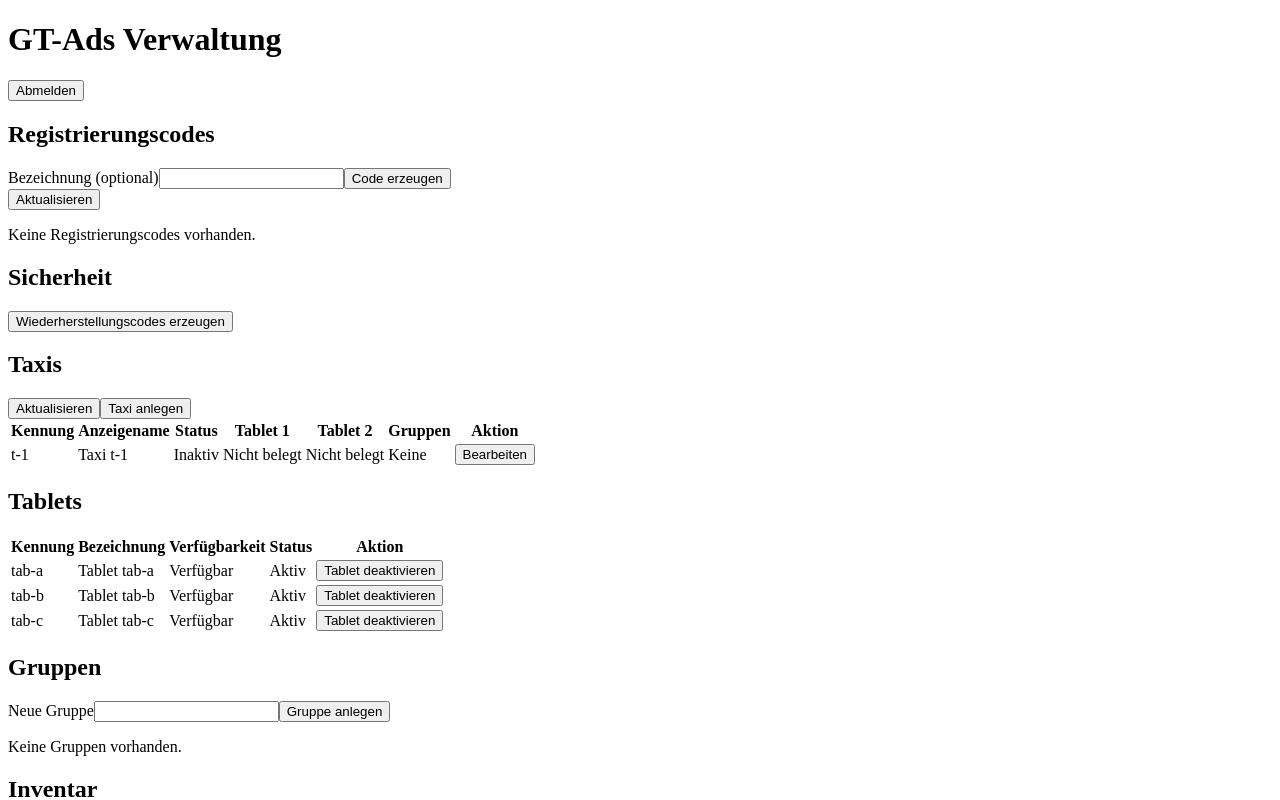
CX-138 Tablet-Paar im Dashboard zuordnen › verhindert unvollstaendige oder doppelte Paare und behaelt eine Auswahl, die die neue Liste nicht mehr enthaelt
Later steps or results of the test are not shown.
Expected: the cell "t-1" is shown, [10, 443, 75, 466]
Click the button "Bearbeiten": (495, 455) [454, 444, 535, 465]
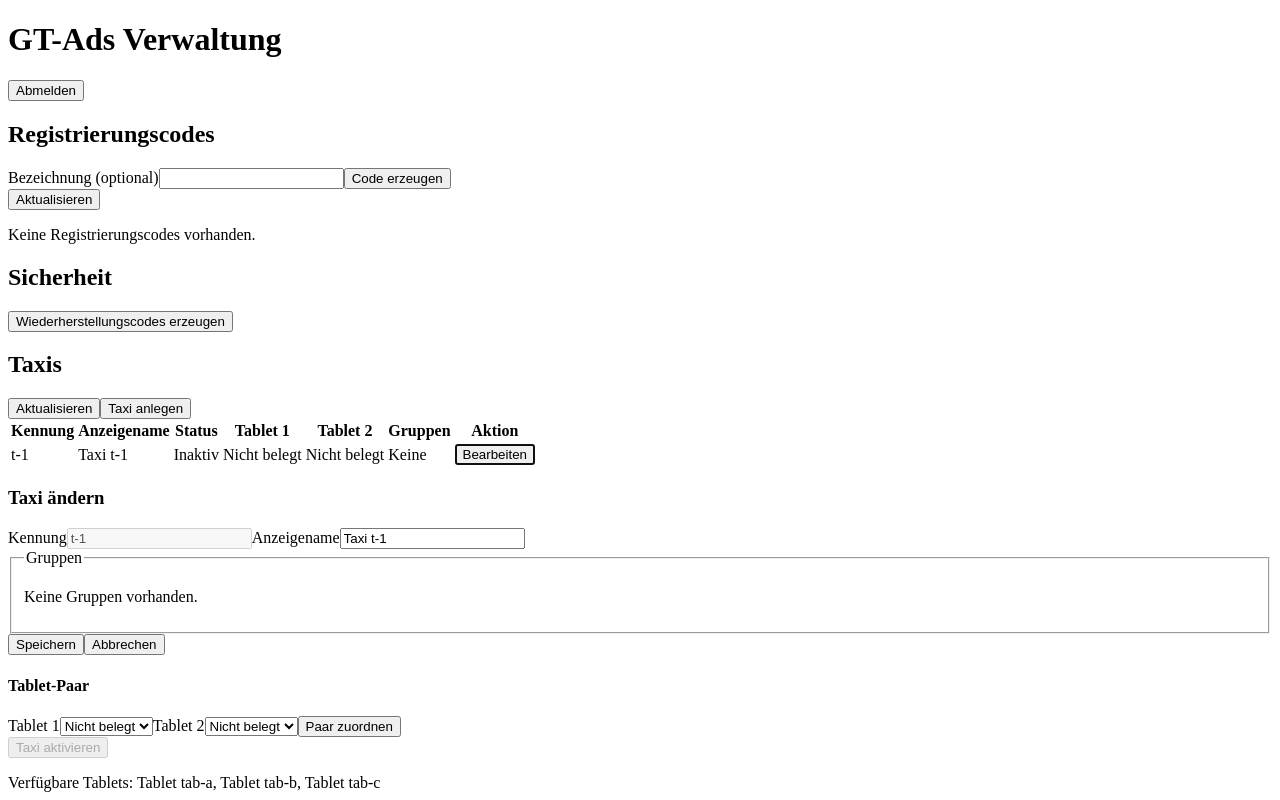
Now the element "Tablet-Paar" is shown, box [8, 677, 401, 791]
Select "Tablet tab-a" in the dropdown labelled "Tablet 1": (106, 726) [60, 717, 153, 736]
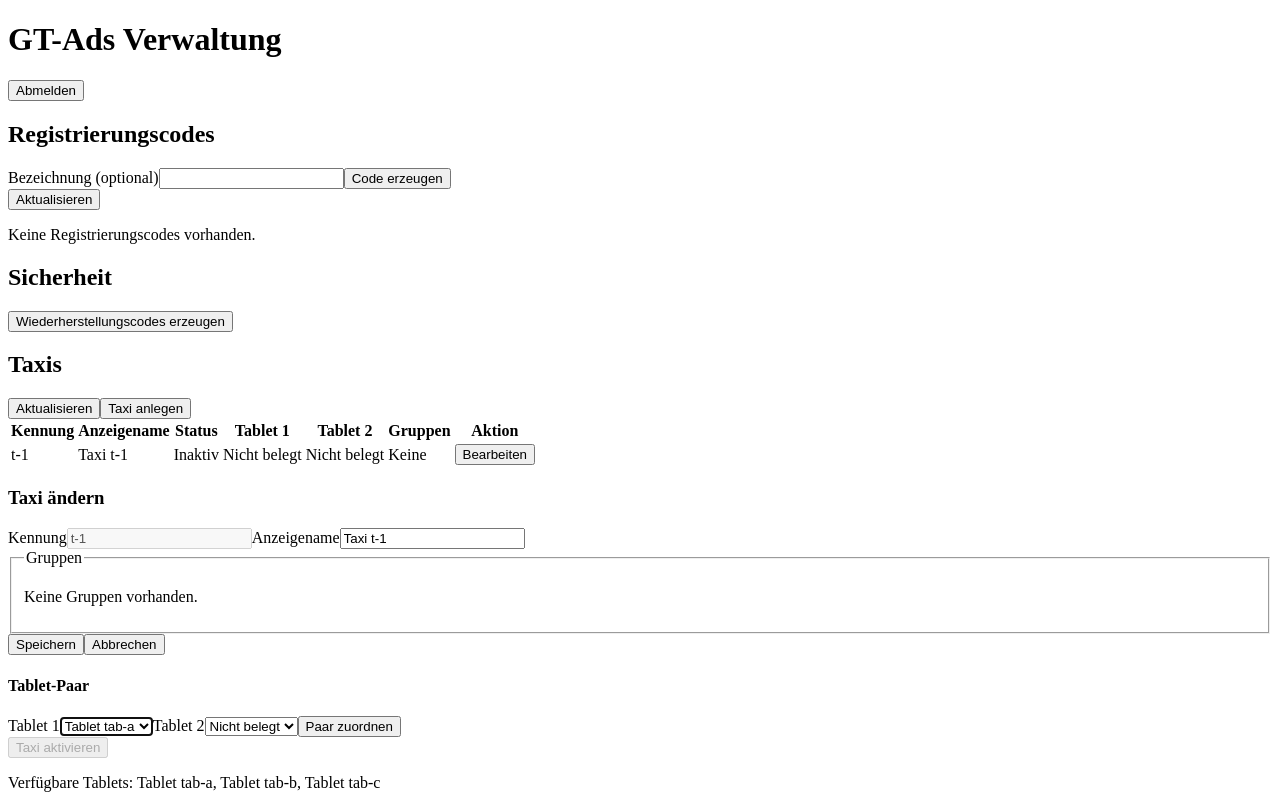
Click the button "Paar zuordnen": (349, 726) [298, 716, 401, 737]
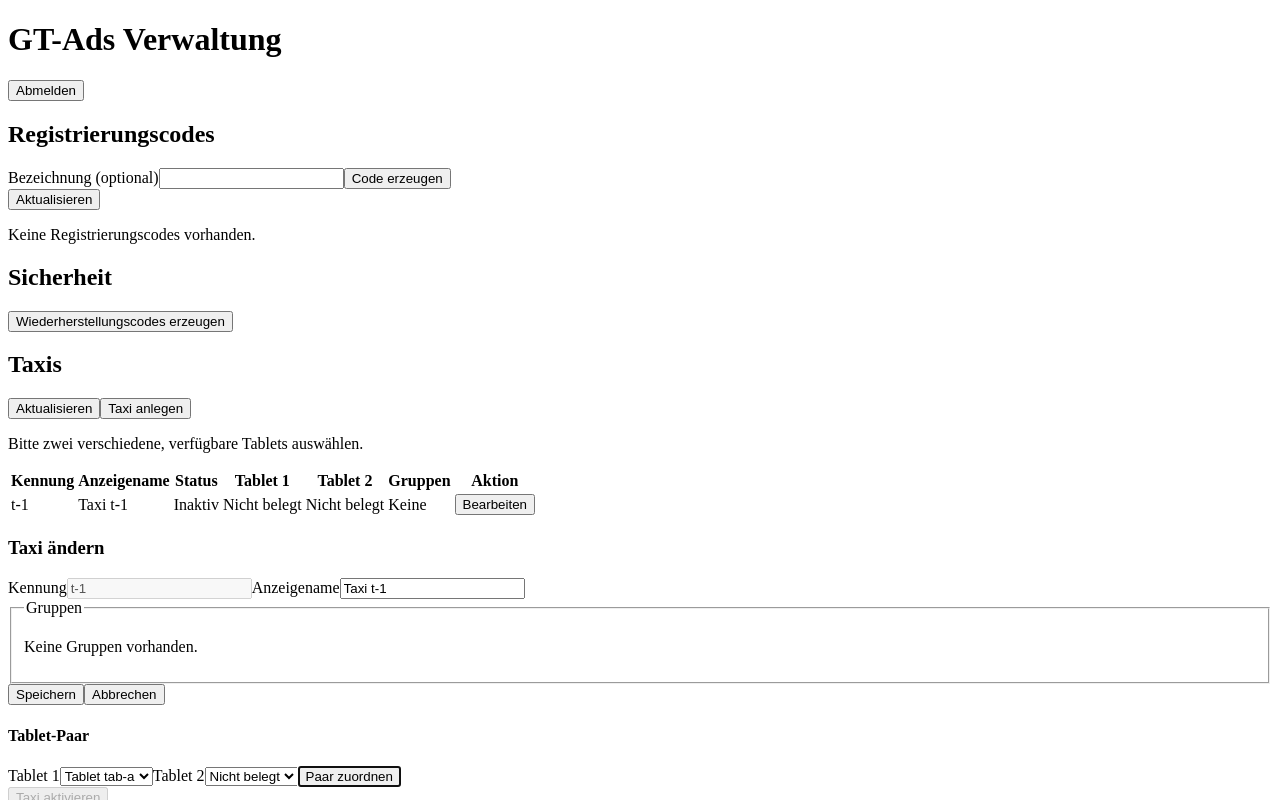
Now the message reads "Bitte zwei verschiedene, verfügbare Tablets auswählen.", box [8, 435, 363, 452]
Select "Tablet tab-a" in the dropdown labelled "Tablet 2": (251, 776) [204, 767, 298, 786]
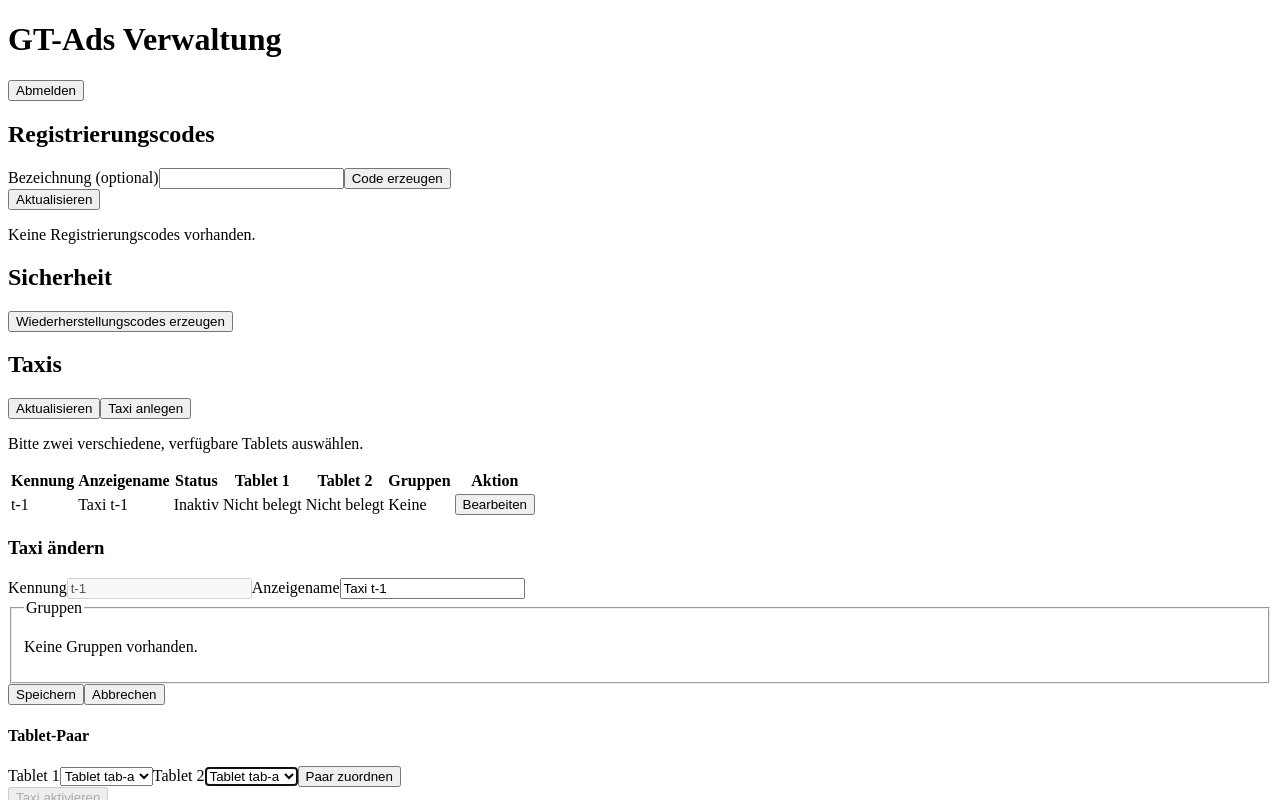
Click the button "Paar zuordnen": (349, 776) [298, 766, 401, 787]
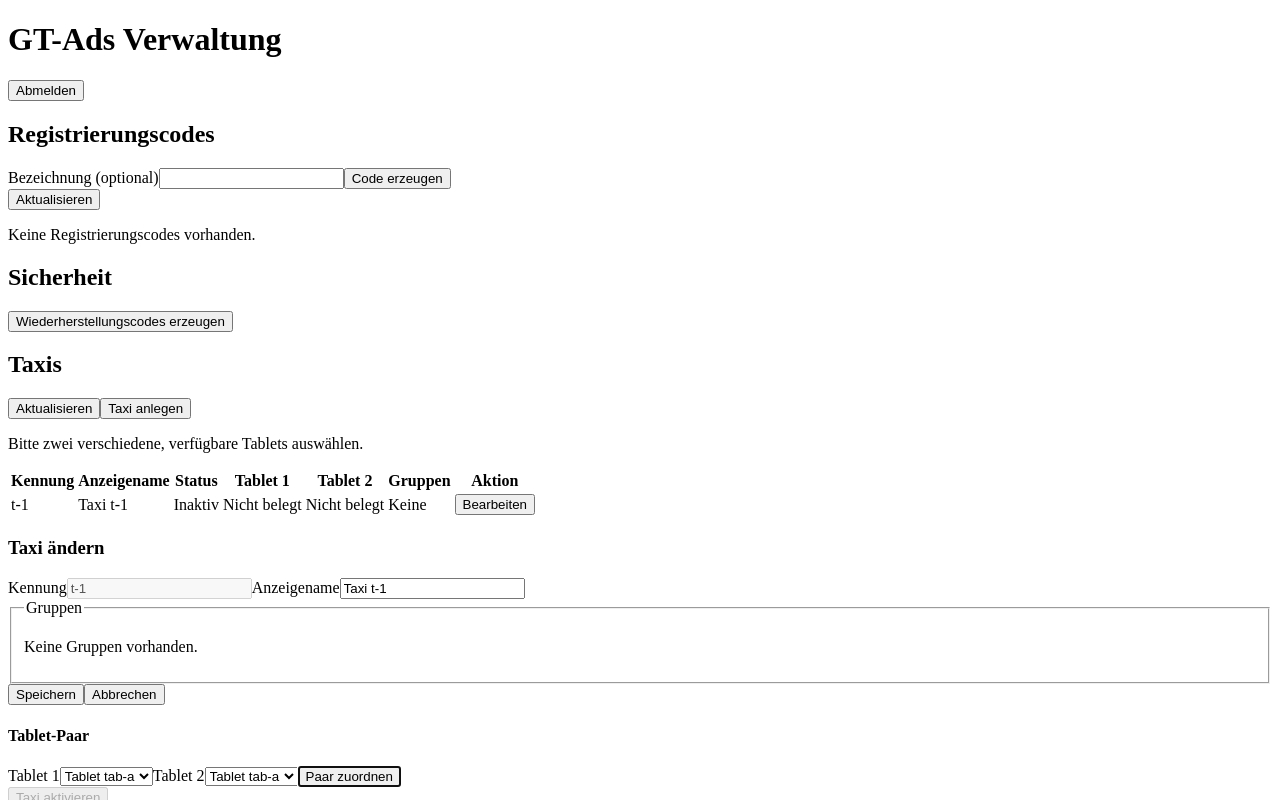
Now the message reads "Bitte zwei verschiedene, verfügbare Tablets auswählen.", box [8, 435, 363, 452]
